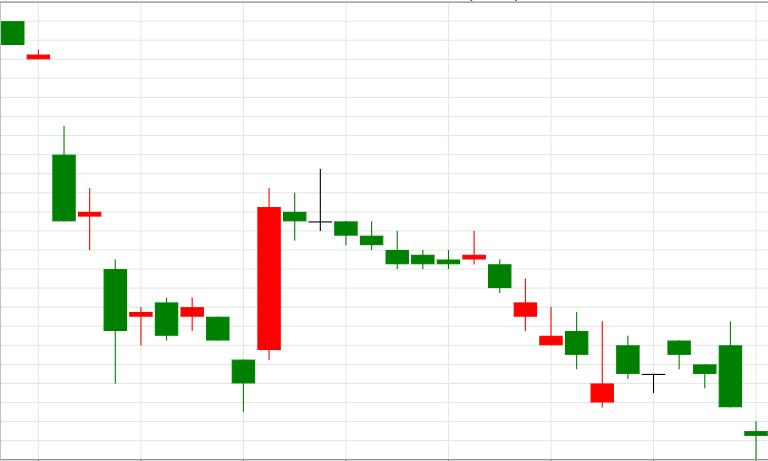inverse_hammer_rise: (284, 169, 613, 407)
